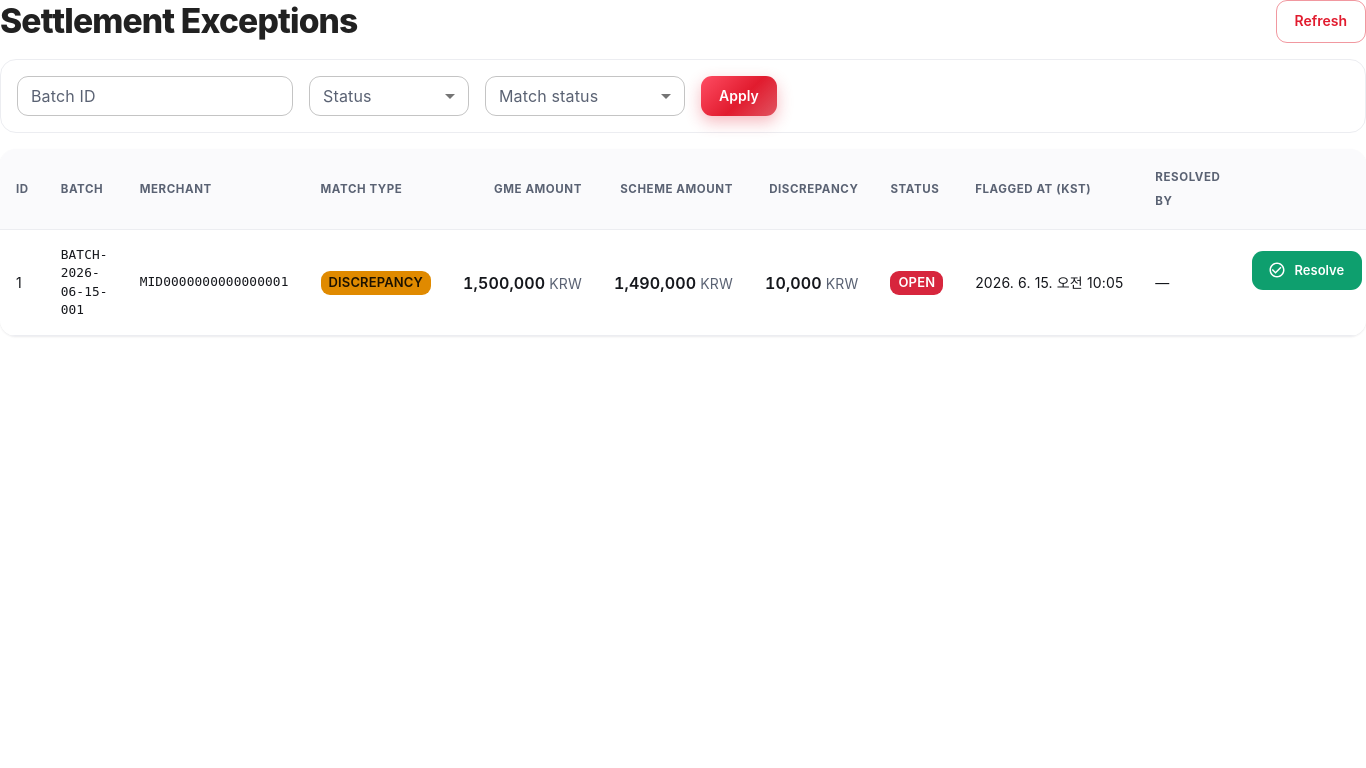
ExceptionsPage › says resolving transmits nothing, and no option claims a send to the scheme
Click the button with aria-label "resolve exception 1": point(1307, 270) [1252, 251, 1362, 290]
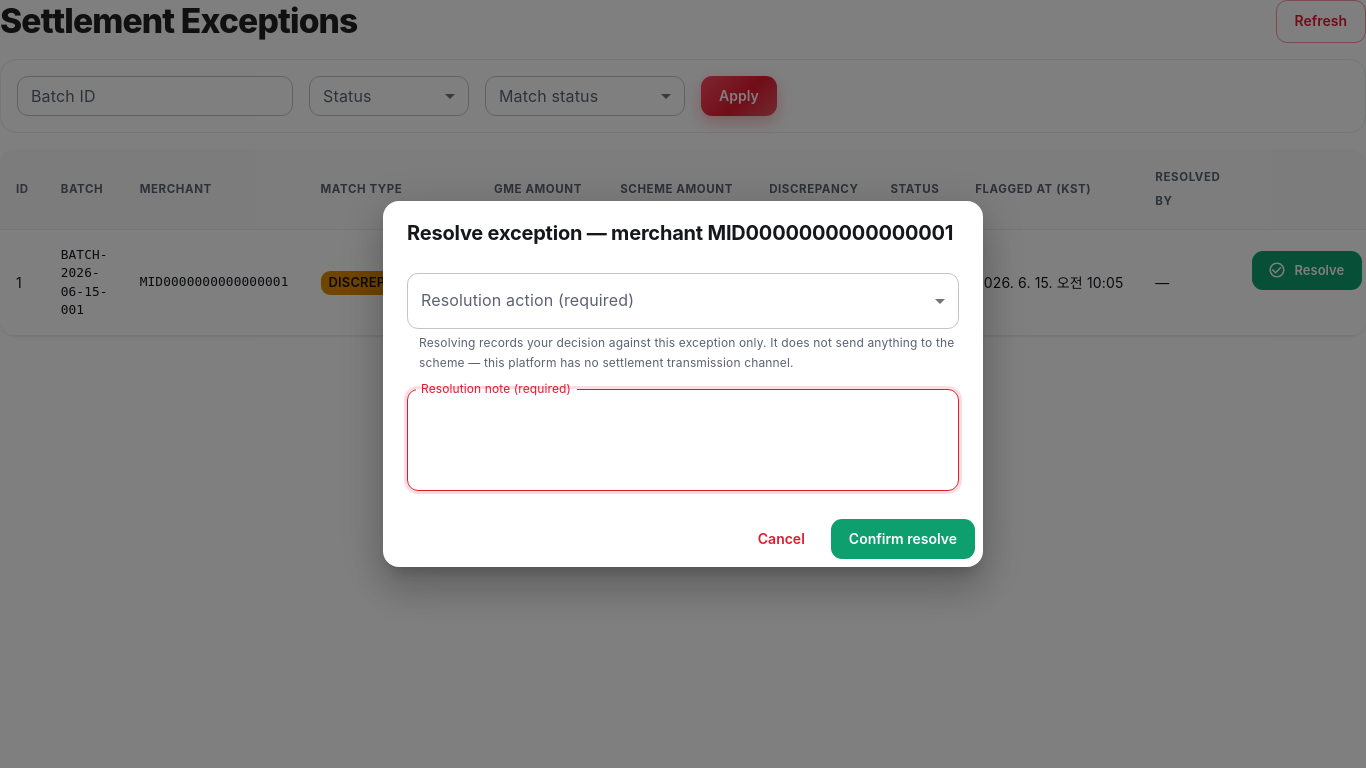
Expected: the dialog does not show "Resubmit to ZeroPay", [383, 201, 983, 567]
Expected: the text with test id "resolve-no-transmission-note" shows "does not send anything to the scheme", [419, 335, 954, 370]
Expected: the text with test id "resolve-no-transmission-note" shows "no settlement transmission channel", [419, 335, 954, 370]
Click the dropdown: point(683, 301) [407, 273, 959, 329]
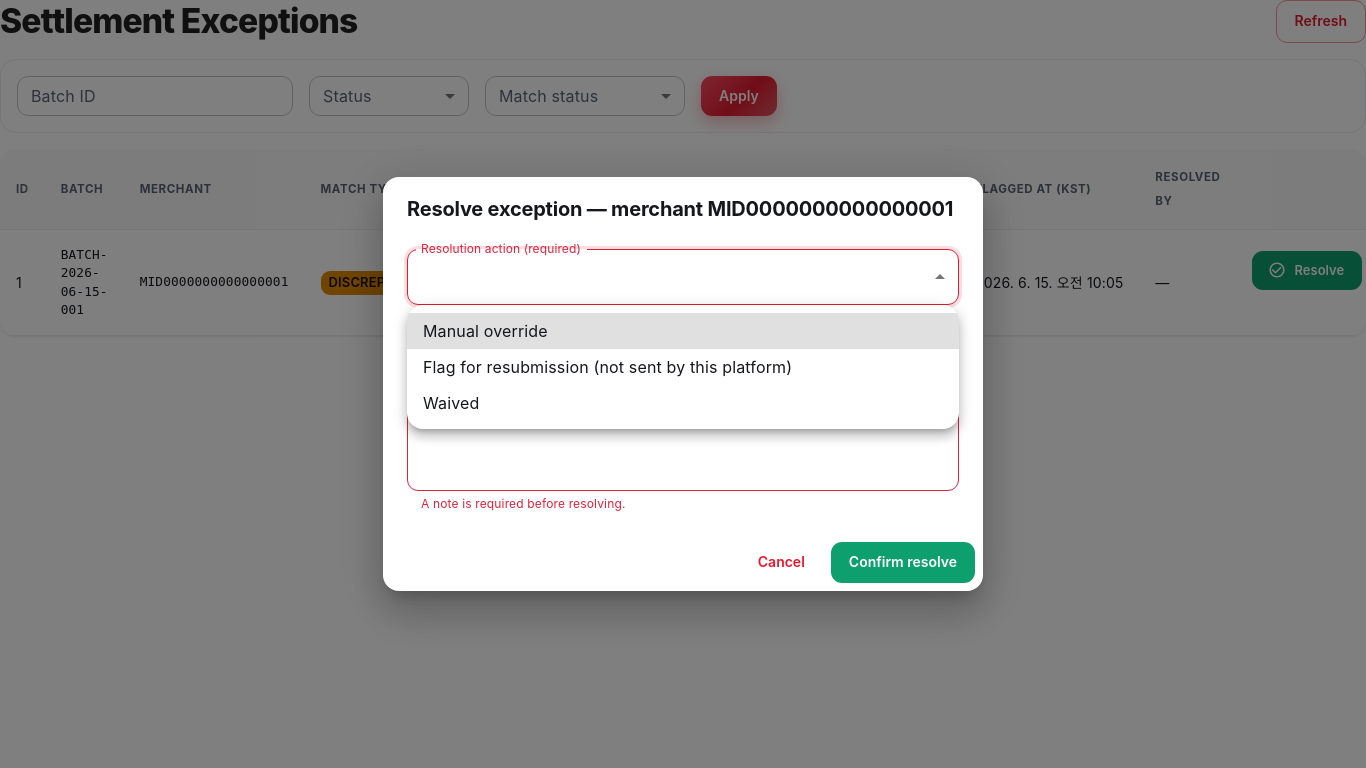
Expected: the option "Flag for resubmission (not sent by this platform)" is shown, [423, 357, 792, 377]
